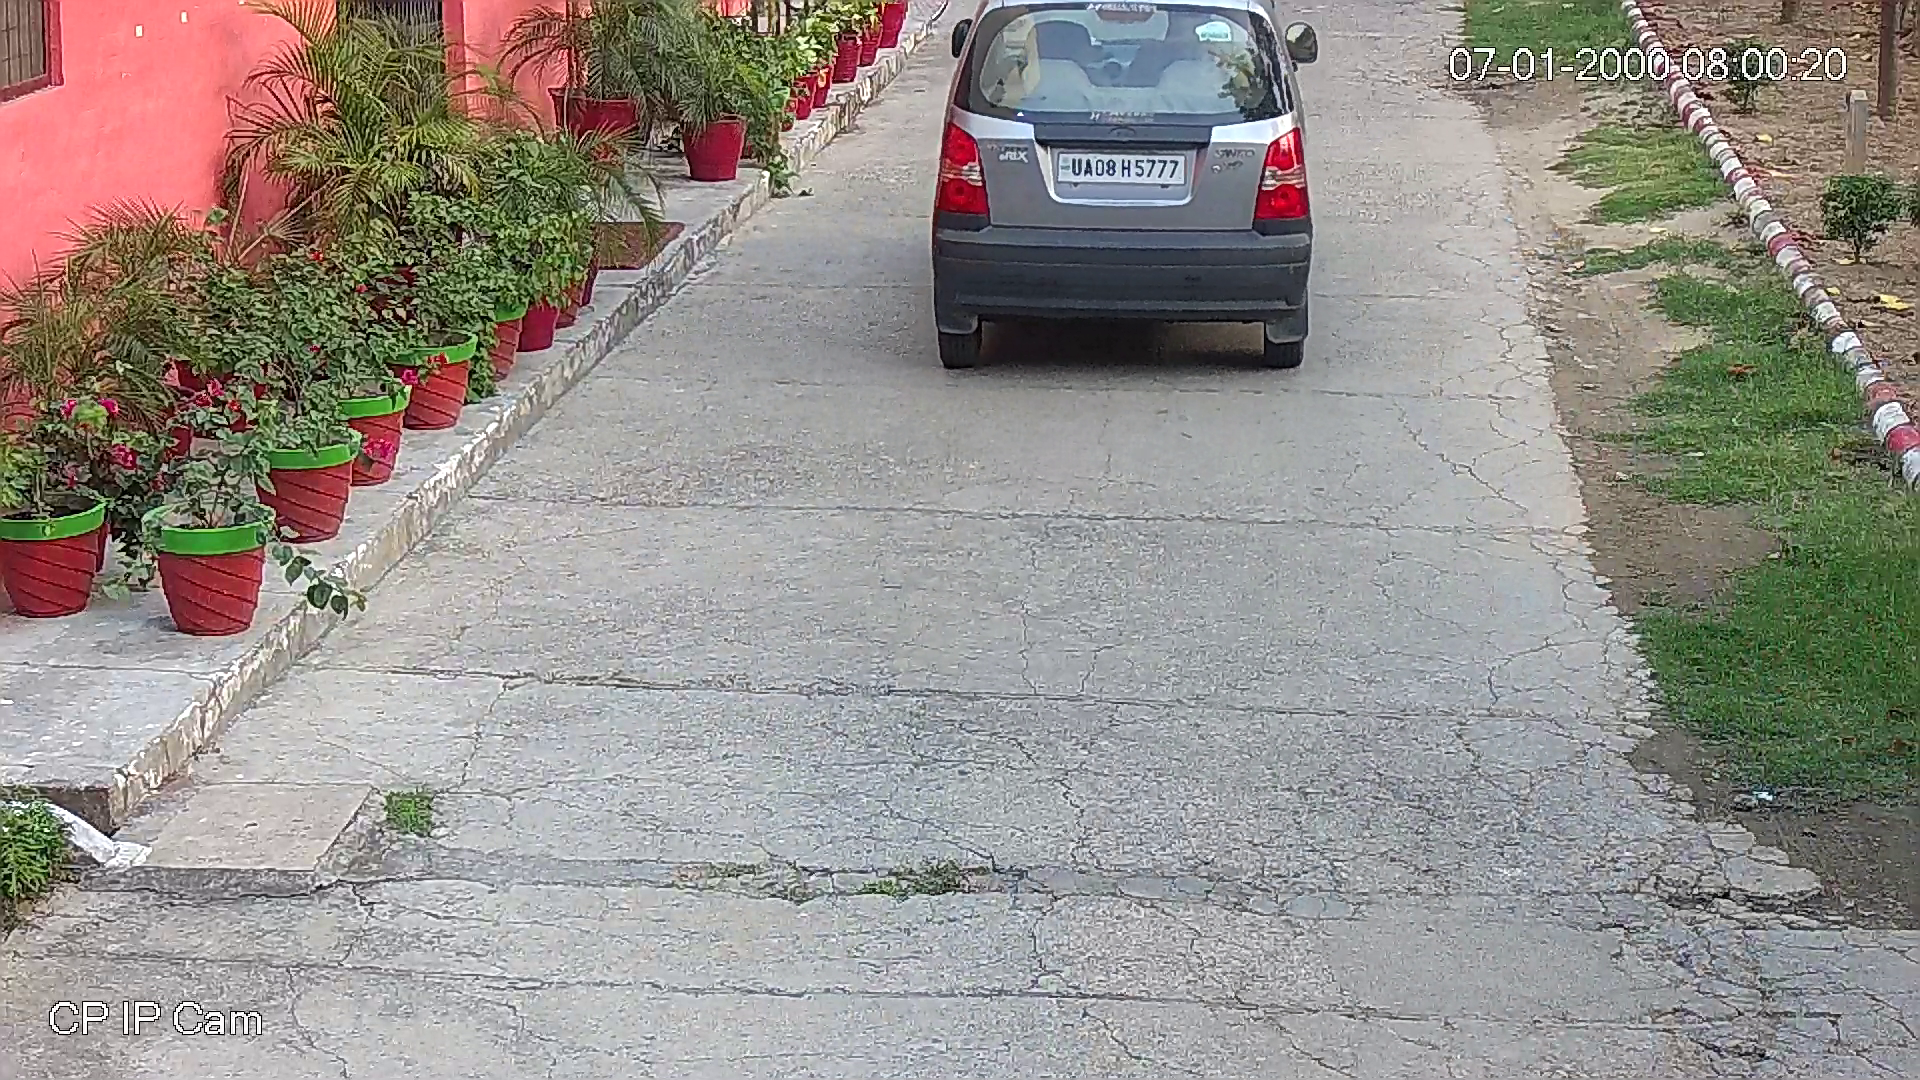plate: (1057, 154, 1183, 183)
